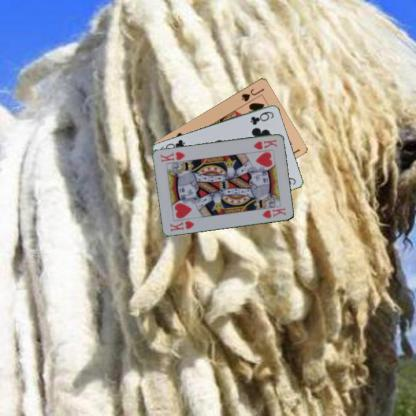6c: (248, 109, 275, 126)
Js: (238, 86, 266, 102)
Kh: (167, 218, 196, 233), (251, 136, 278, 151)
